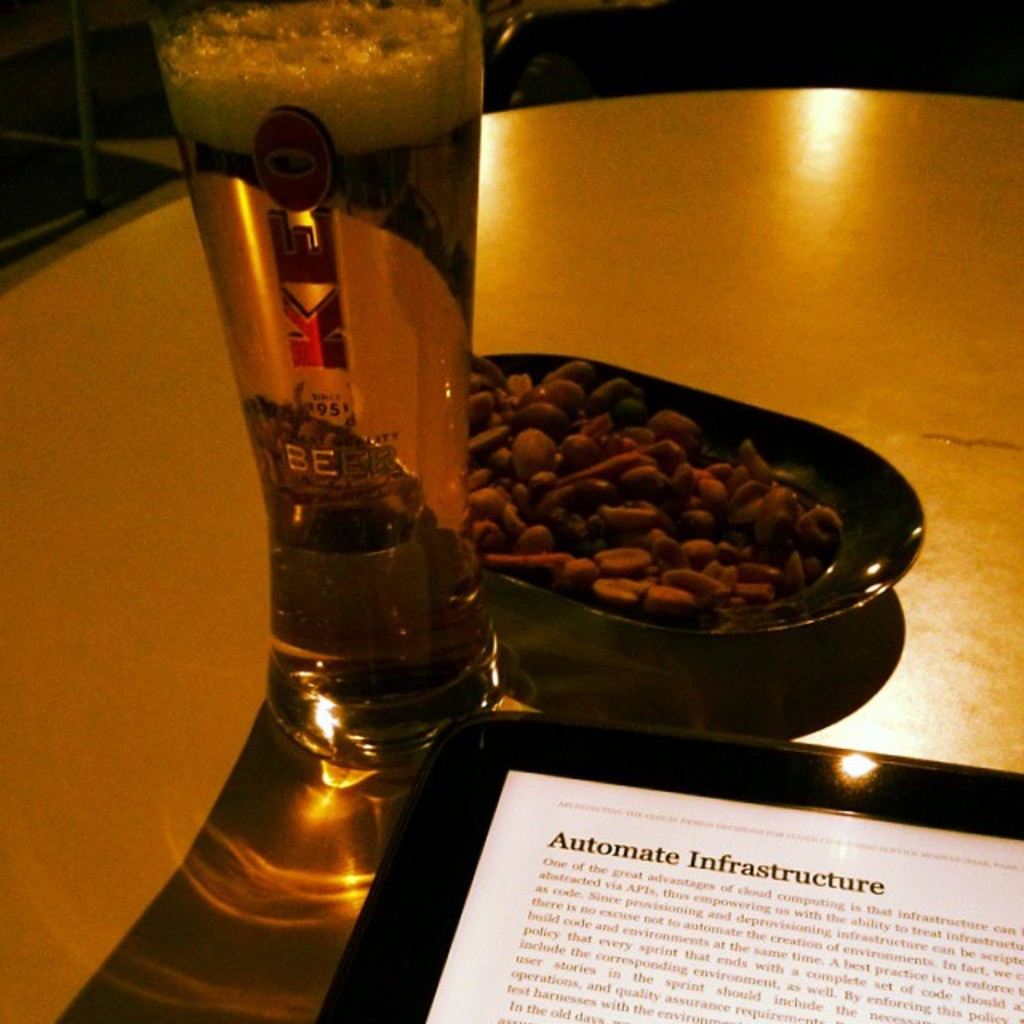Beer: (161, 0, 478, 651)
